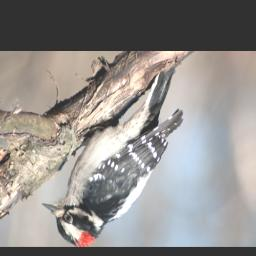Woodpecker: (37, 63, 184, 246)
